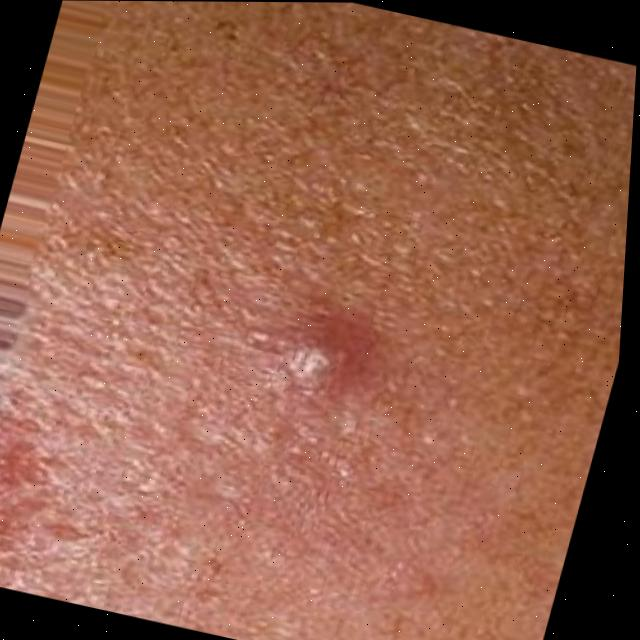Rosacea: (227, 268, 392, 399), (0, 432, 63, 535)
